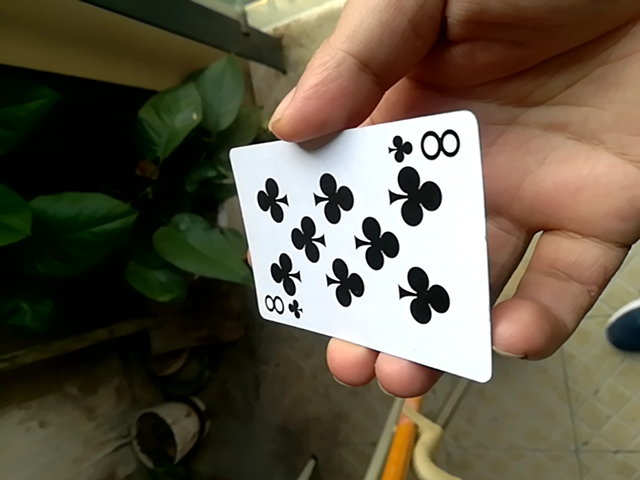mh 8: (226, 114, 489, 387)
